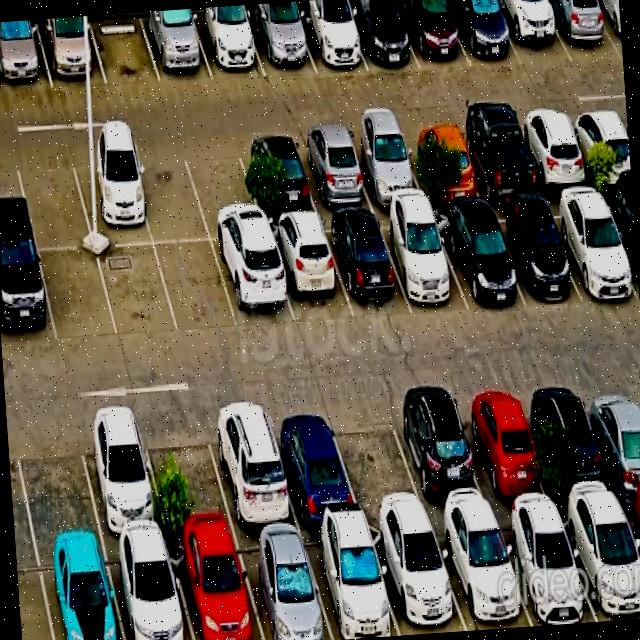empty: (138, 411, 235, 537), (327, 397, 427, 519), (11, 414, 101, 546), (181, 139, 265, 240), (129, 146, 209, 243), (14, 151, 93, 249), (97, 244, 178, 338), (154, 242, 237, 333), (39, 249, 117, 342), (88, 14, 160, 84)
occupied: (386, 390, 493, 519), (453, 384, 553, 513), (203, 400, 299, 532), (74, 411, 167, 540), (526, 380, 619, 508), (265, 402, 361, 526), (495, 511, 597, 626), (431, 515, 532, 630), (301, 525, 399, 640), (368, 522, 466, 635), (233, 531, 333, 640), (167, 535, 263, 640), (544, 194, 639, 299), (558, 503, 640, 621), (485, 204, 580, 305), (431, 209, 525, 311), (266, 218, 352, 325), (322, 214, 411, 317), (104, 538, 193, 640), (376, 212, 468, 310), (36, 543, 123, 640), (70, 149, 153, 246), (580, 377, 640, 502), (212, 239, 295, 328), (455, 119, 540, 201), (236, 136, 318, 219), (293, 132, 373, 213), (345, 129, 425, 207), (401, 124, 483, 200), (515, 112, 593, 191), (0, 247, 56, 347), (344, 0, 419, 71), (493, 0, 571, 67), (396, 0, 470, 70), (190, 12, 265, 80), (35, 17, 106, 88), (140, 12, 212, 82), (566, 109, 631, 185), (447, 0, 521, 66), (293, 6, 367, 72), (542, 0, 621, 61), (246, 9, 315, 76), (600, 192, 639, 292), (0, 21, 52, 91), (593, 0, 622, 57), (620, 500, 640, 559)
